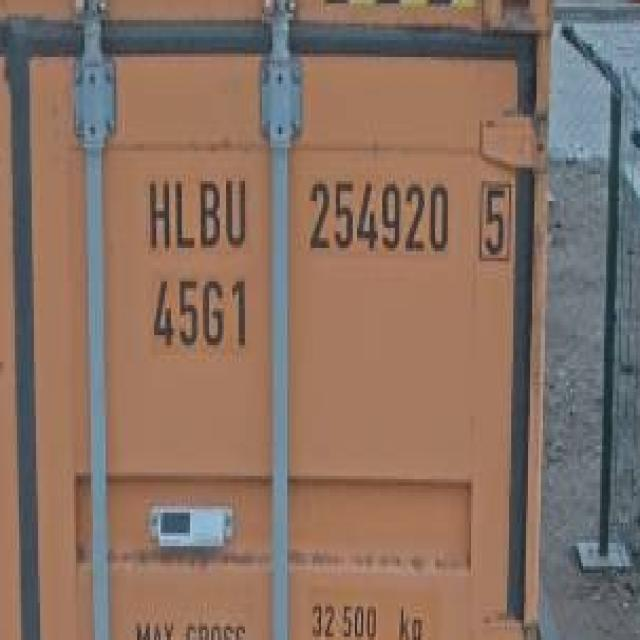dv: (470, 172, 514, 270)
owner: (140, 165, 254, 254)
serial: (298, 168, 454, 268)
size: (138, 266, 257, 355)
